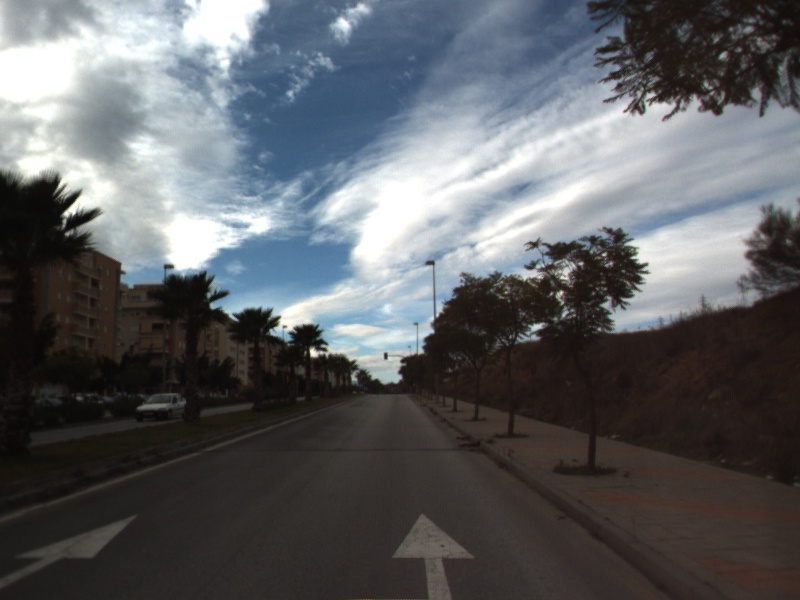STRAIGHT: (1, 512, 141, 590), (390, 511, 478, 600)
